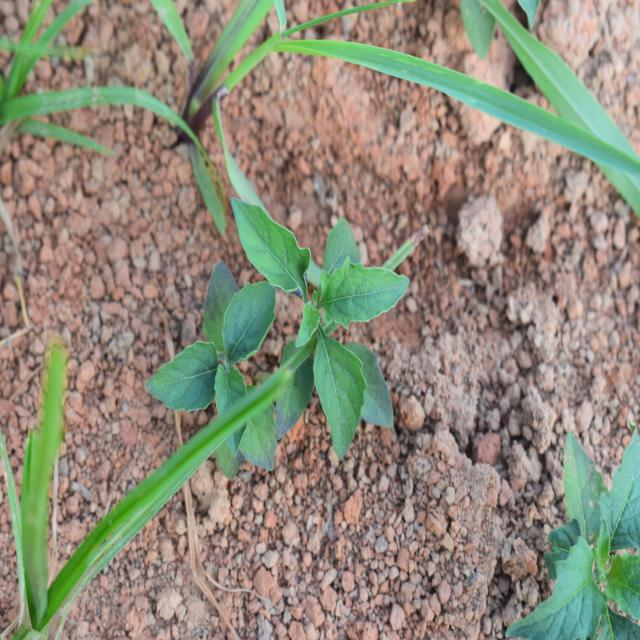Black_nightshade: (267, 192, 422, 505), (162, 254, 302, 505)
